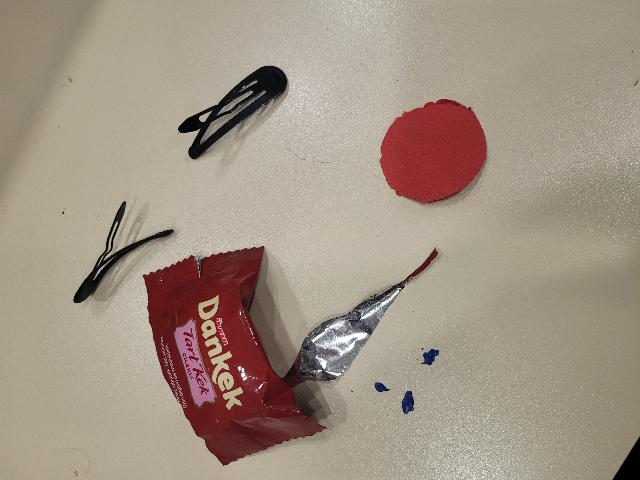Kagit: (380, 90, 504, 218)
Metal: (171, 60, 297, 167), (65, 197, 174, 311)
Plastik: (136, 244, 469, 467)
